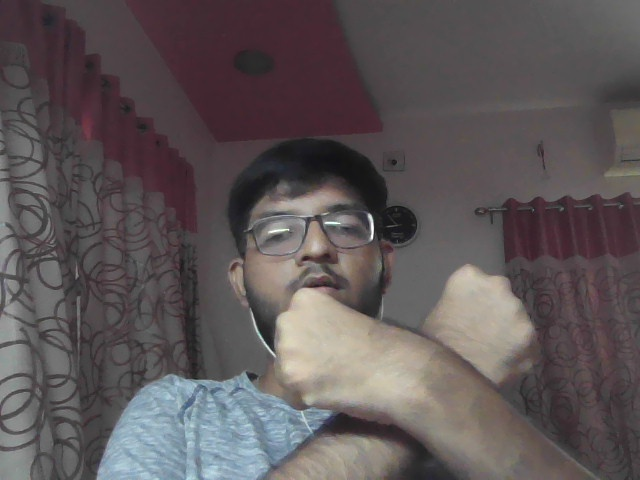પ્રેમ: (243, 254, 587, 480)
